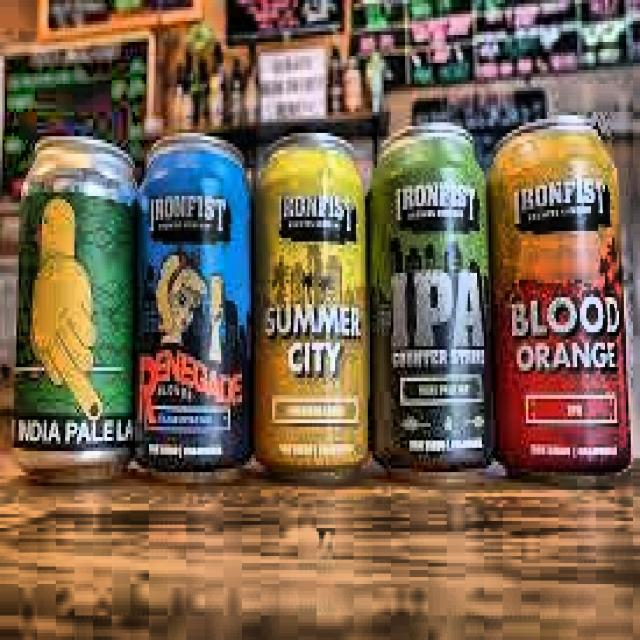can: (488, 109, 636, 491), (368, 115, 499, 481), (12, 129, 139, 486), (248, 127, 371, 484), (134, 125, 255, 487)
